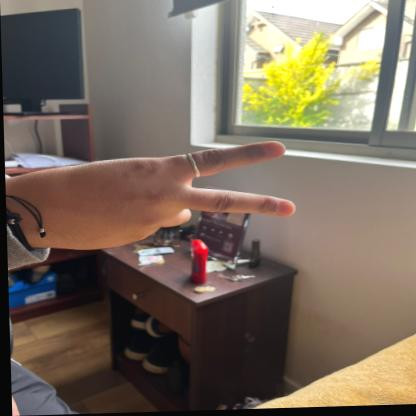H: (3, 131, 301, 256)
